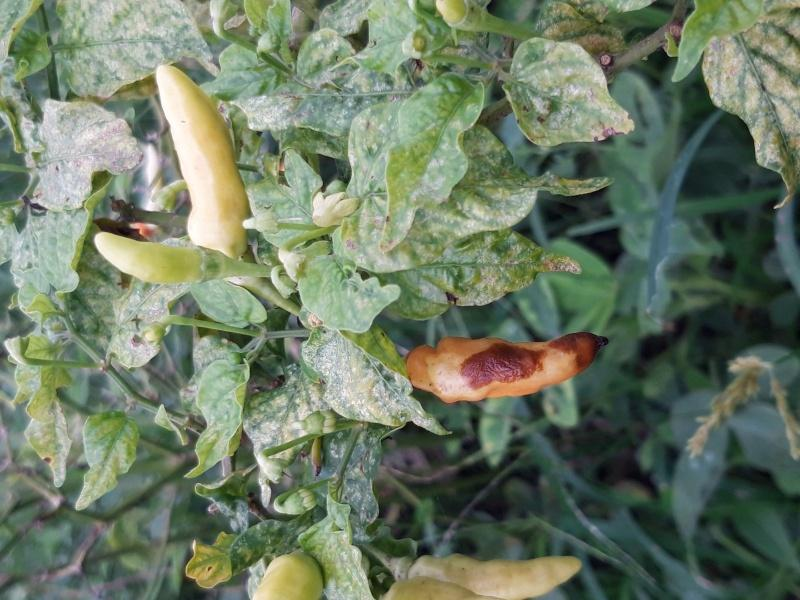antraknosa: (408, 332, 608, 403)
cabai_normal: (157, 64, 252, 258), (410, 555, 582, 595), (94, 231, 204, 284), (256, 550, 326, 598)
